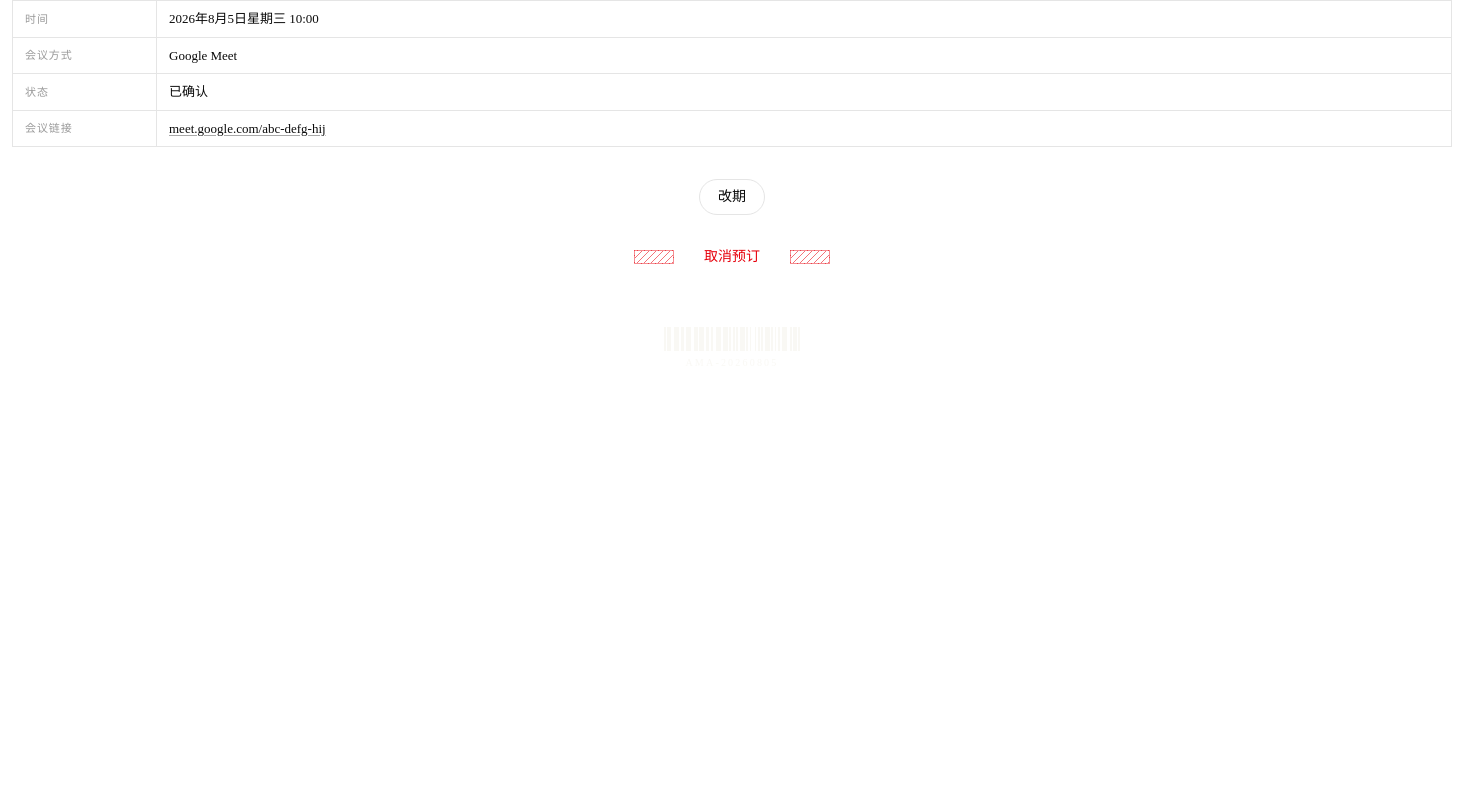
Scenario: ManageBooking › explains the 24 hour rule when the reschedule window has closed
The image size is (1464, 799).
Click the button "改期" at x=732, y=197, box [699,179,765,215]
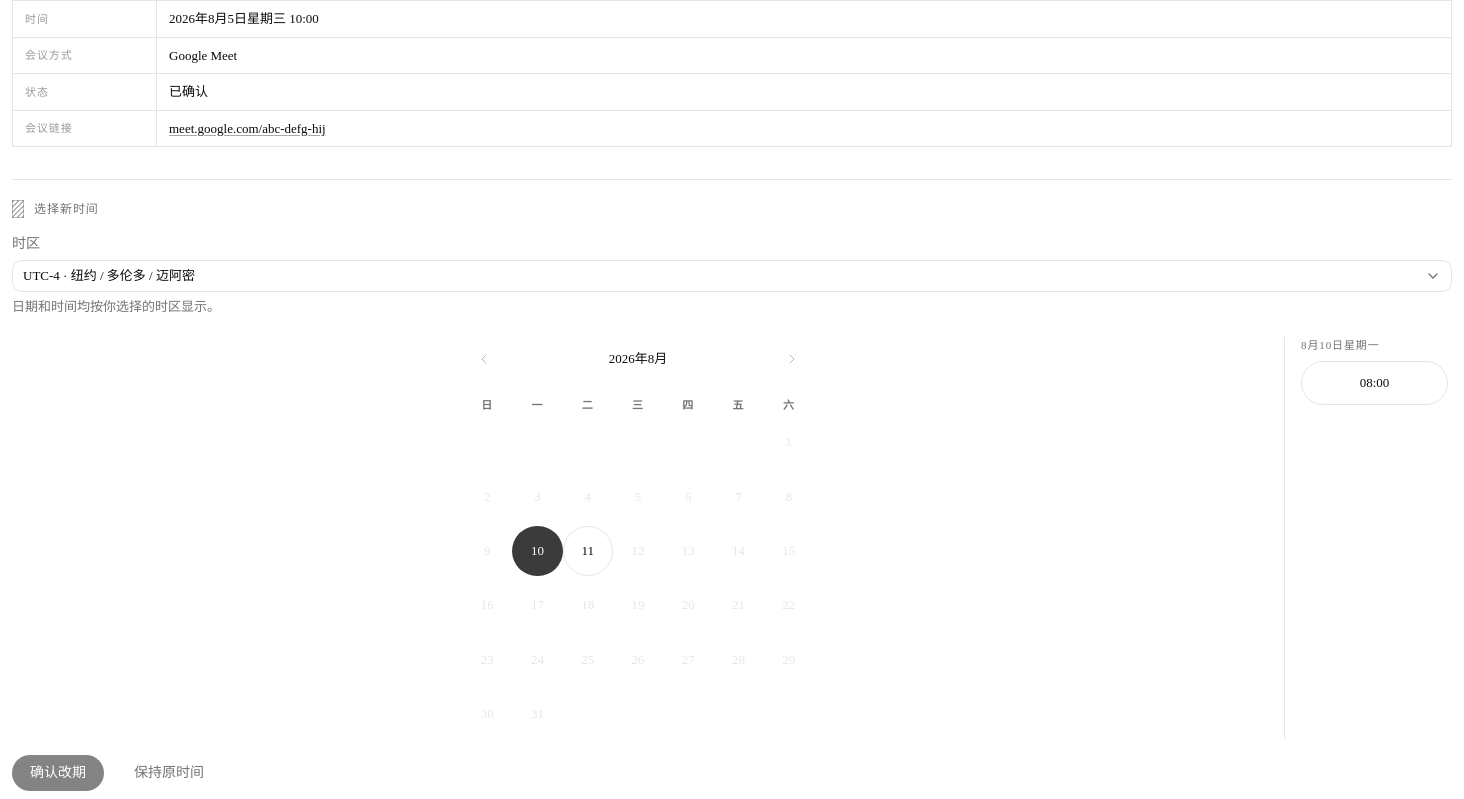
Click the button "08:00" at x=1374, y=383, box [1301,361,1448,405]
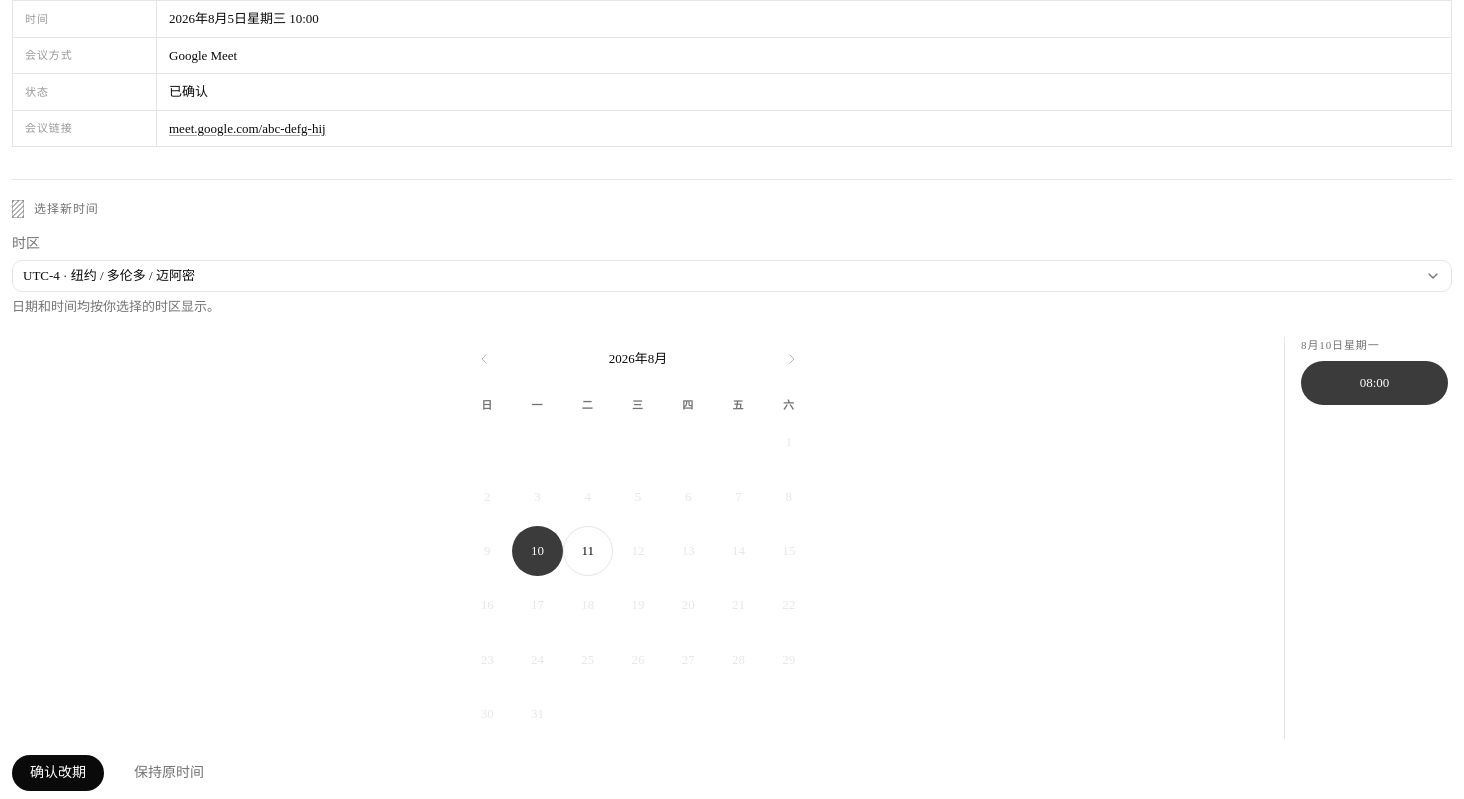
Click the button named "Confirm new time" at x=58, y=773, box [12,755,104,791]
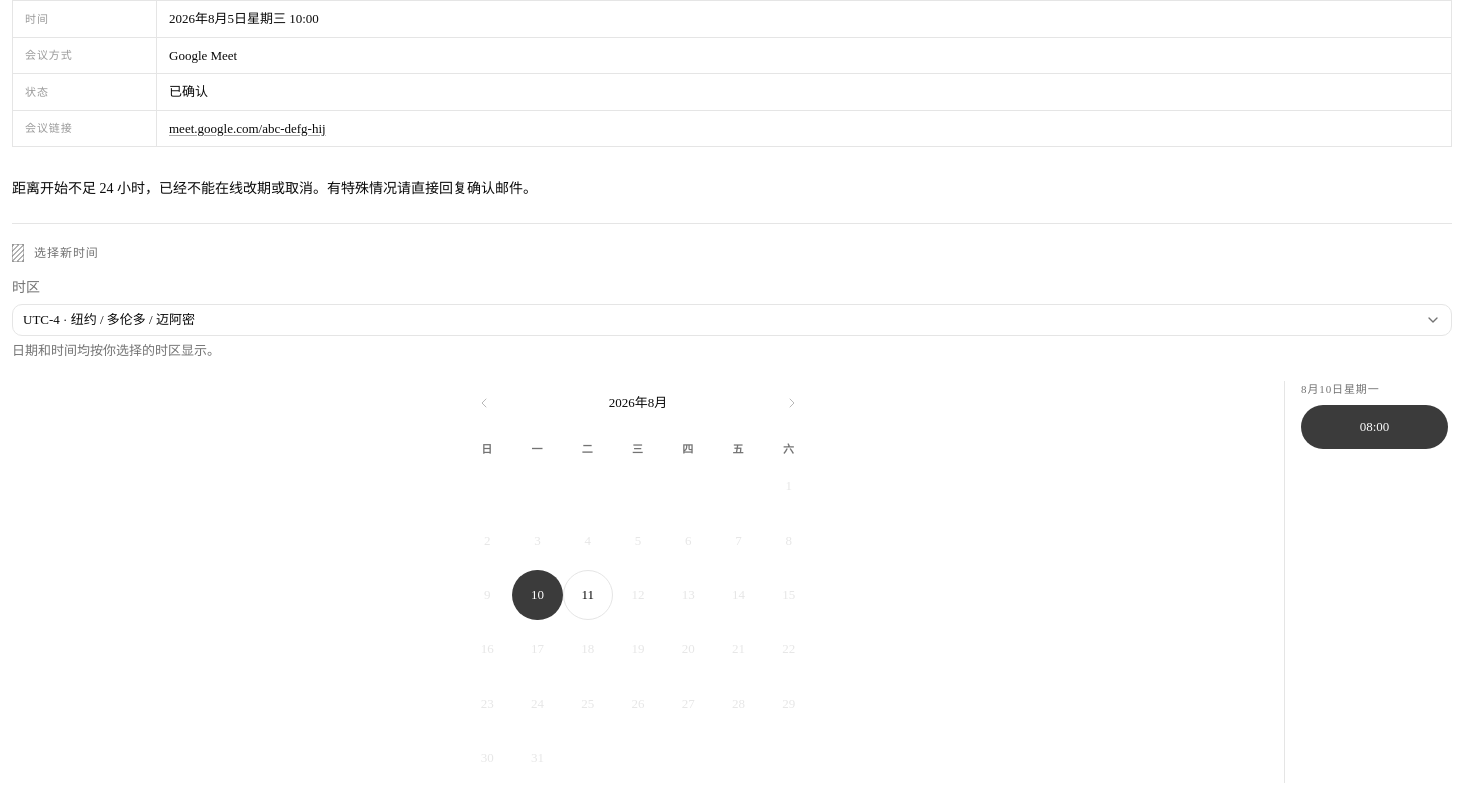
Expected: the message shows "不足 24 小时", [12,181,537,196]
